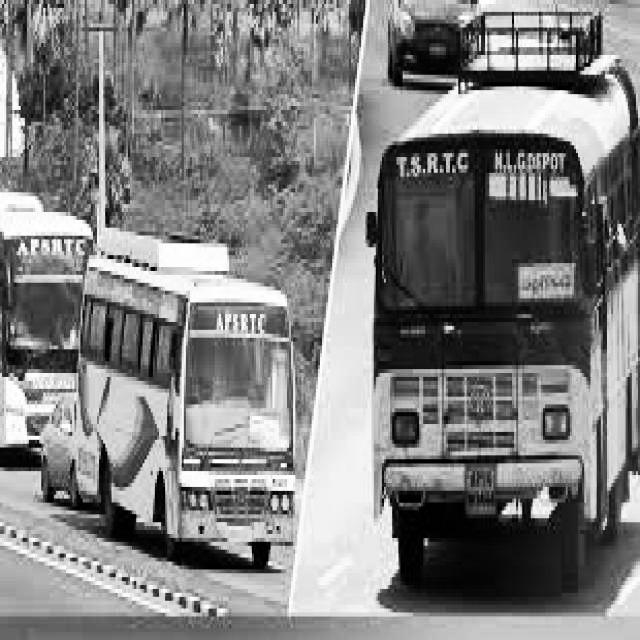Bus: (358, 5, 640, 609), (70, 198, 307, 578), (0, 168, 80, 441)
